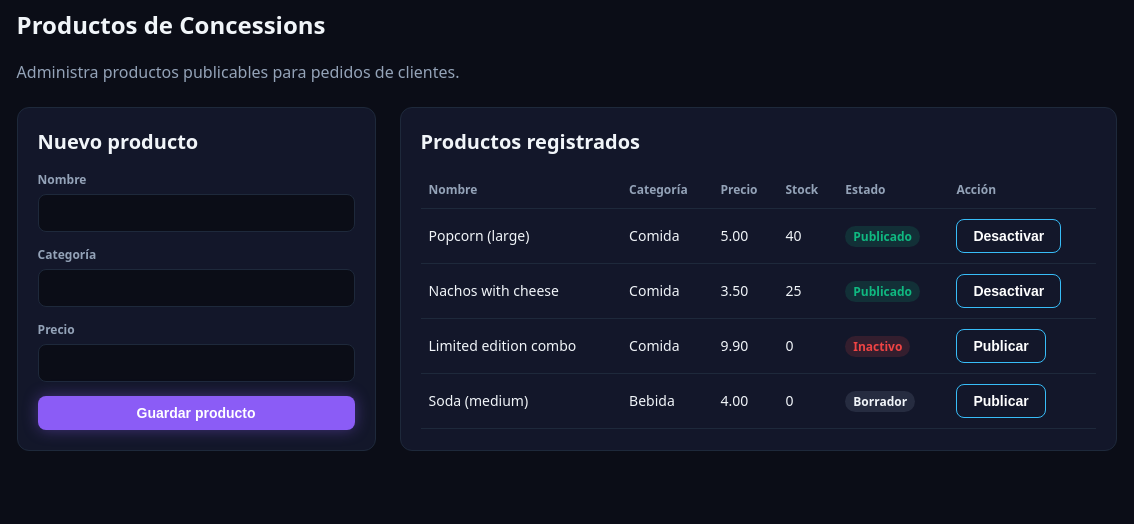
Test: ProductsPageComponent › saves a new product as a draft and says so
Type "Hot dog" into the field labelled "Nombre" at [196, 213], box [38,194,354,232]
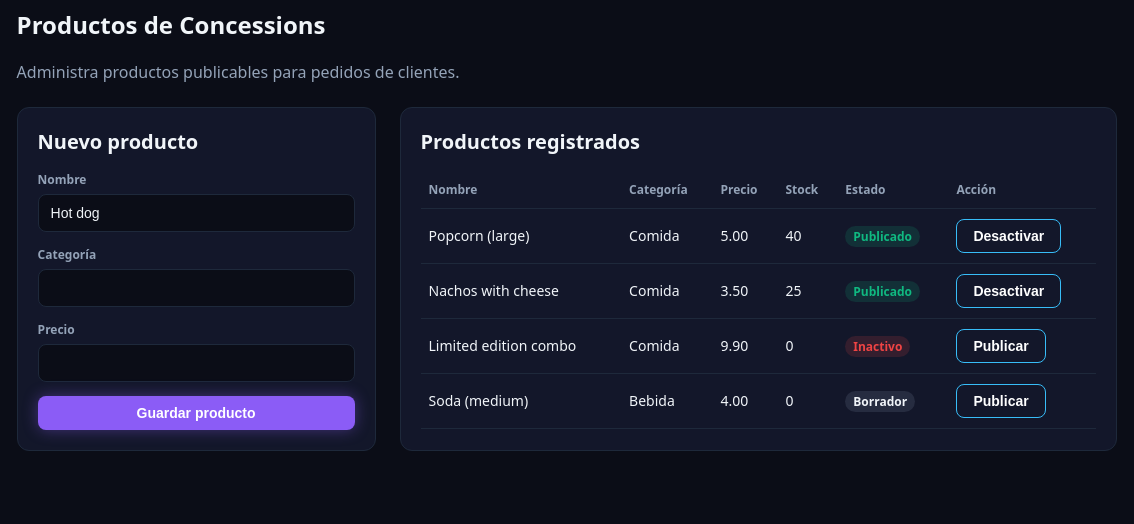
Type "Comida" into the field labelled "Categoría" at [196, 288], box [38,269,354,307]
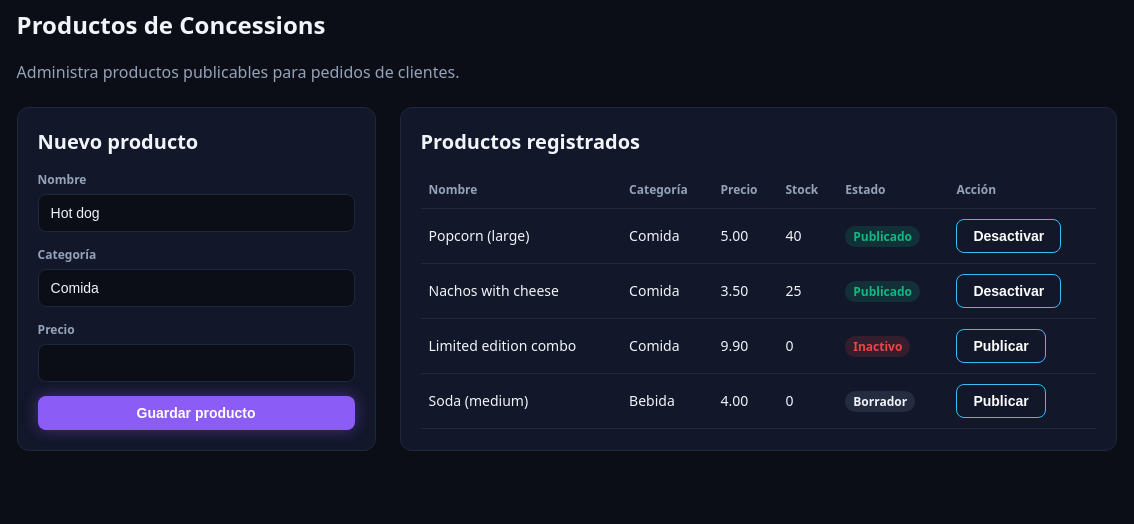
Type "4.5" into the number field labelled "Precio" at [196, 363], box [38,344,354,382]
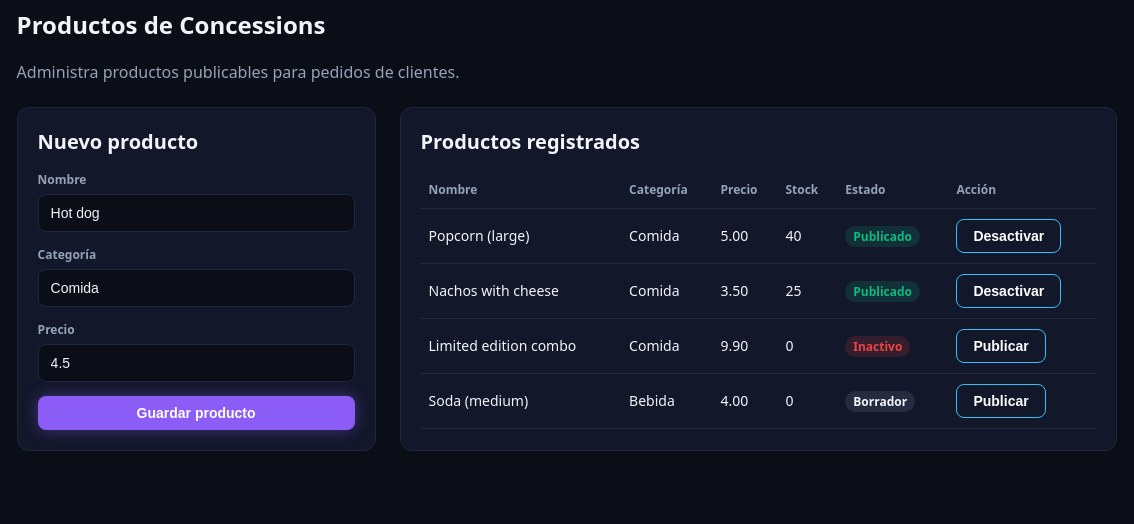
Submit the form, box [38,171,354,430]
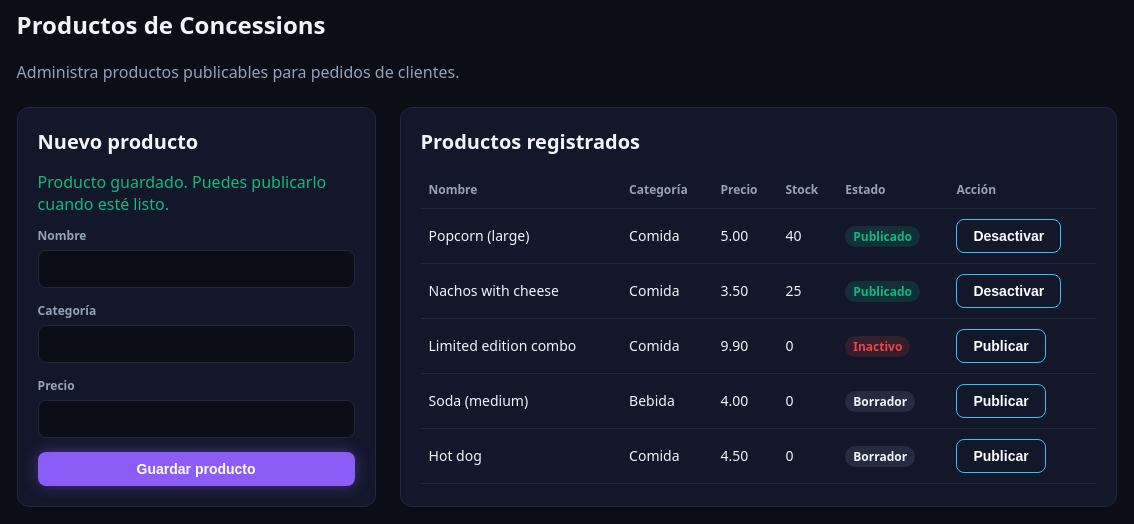
Check: the row with test id "product-row" shows "Hot dog", box [428,446,482,465]
Check: the row with test id "product-row" shows "Borrador", box [853,448,907,465]
